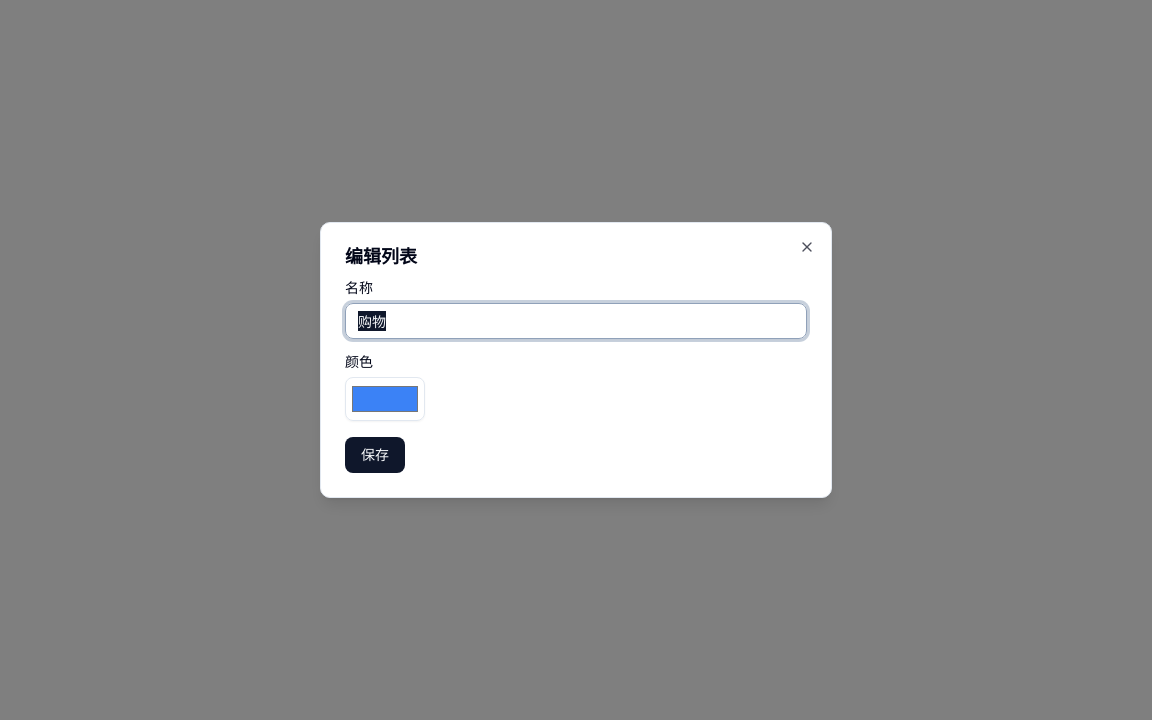
it: EditListDialog › shows validation error and blocks submit when name is blank
Clear the field labelled "名称" at [576, 321], box [345, 303, 807, 339]
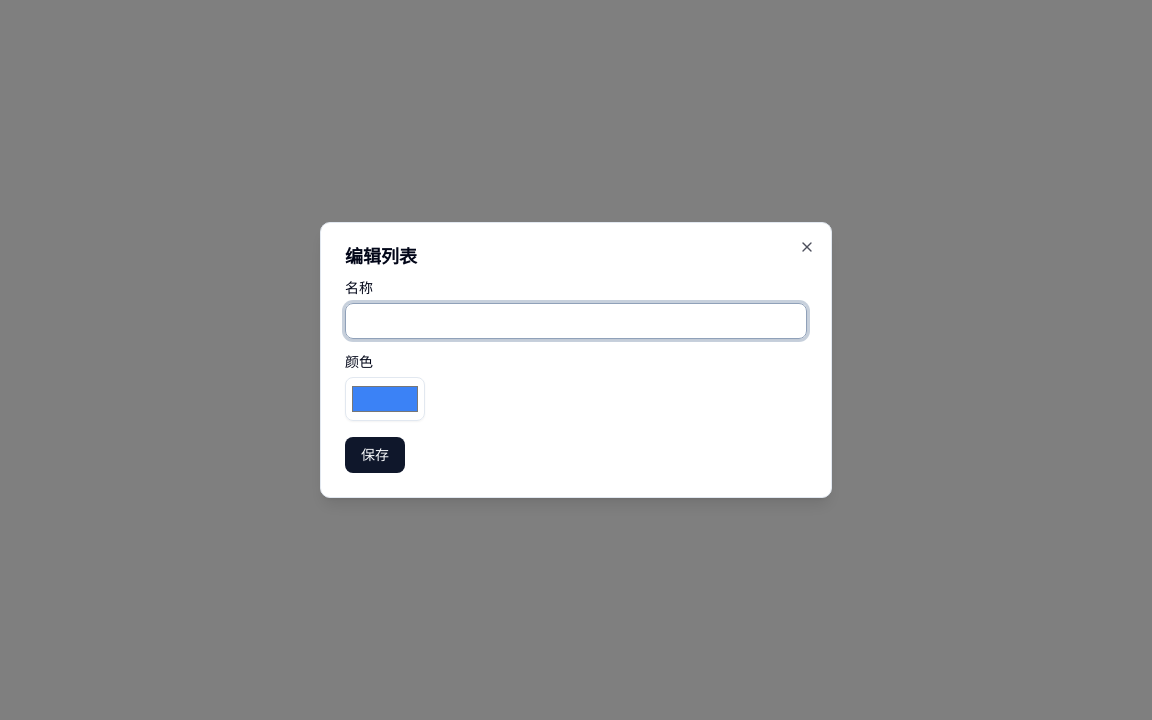
Click the button "保存" at [375, 455], box [345, 437, 405, 473]
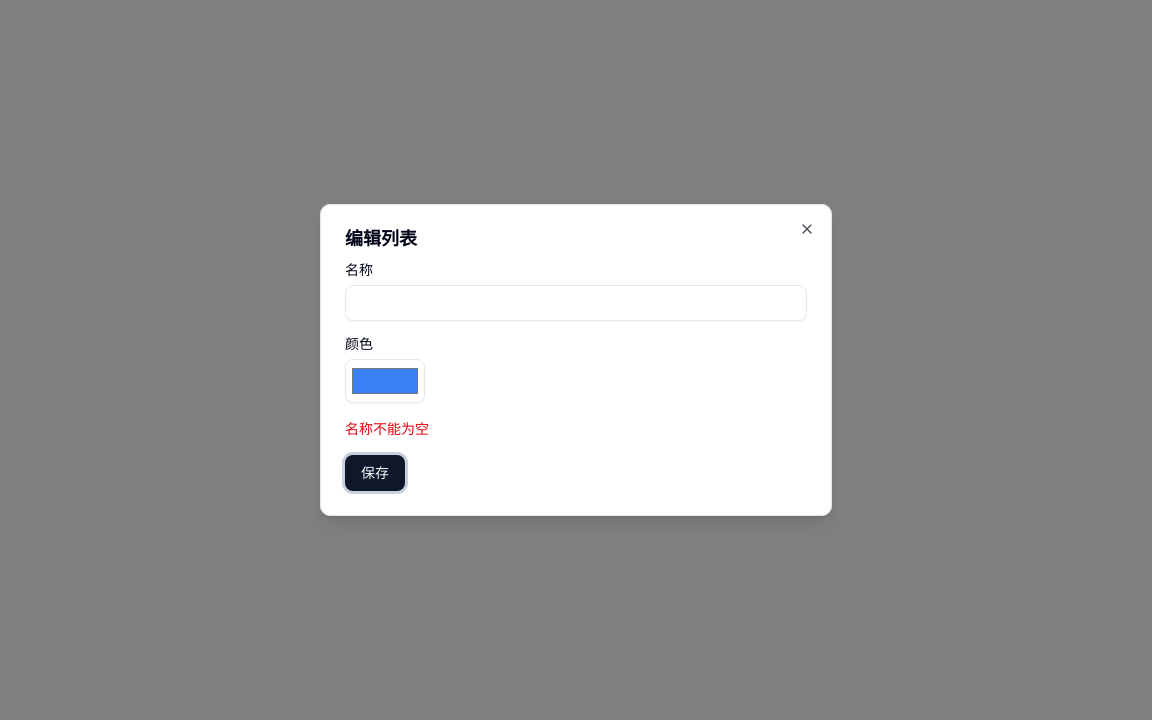
expect the message reads "名称不能为空": met, box [345, 419, 429, 438]
